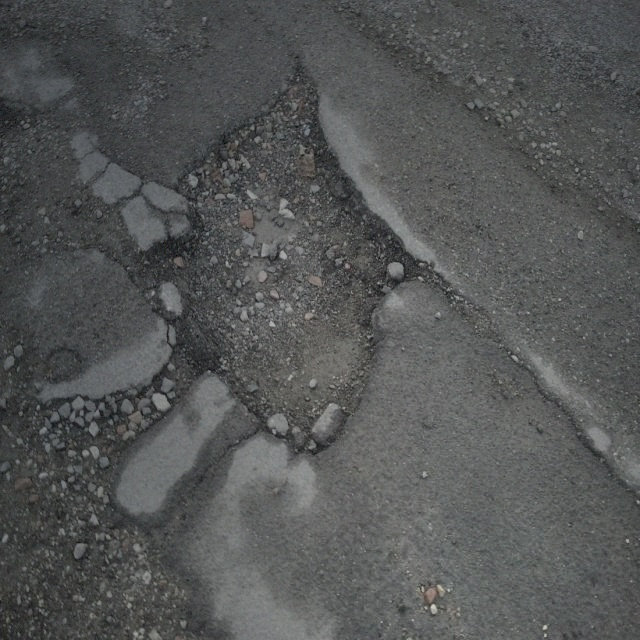pothole: (140, 61, 411, 464)
